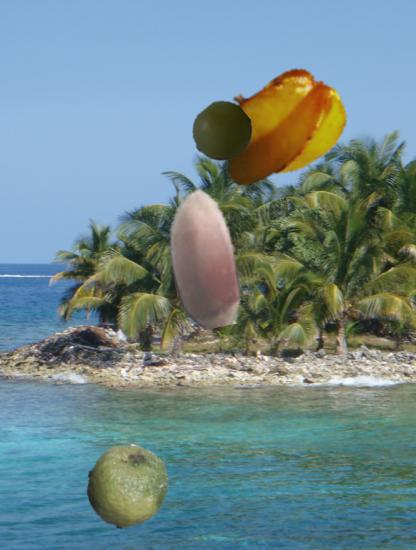Carambula: (209, 57, 349, 197)
Grape: (192, 102, 253, 163)
Hazelnut: (131, 185, 275, 329)
Limes: (85, 444, 170, 529)
